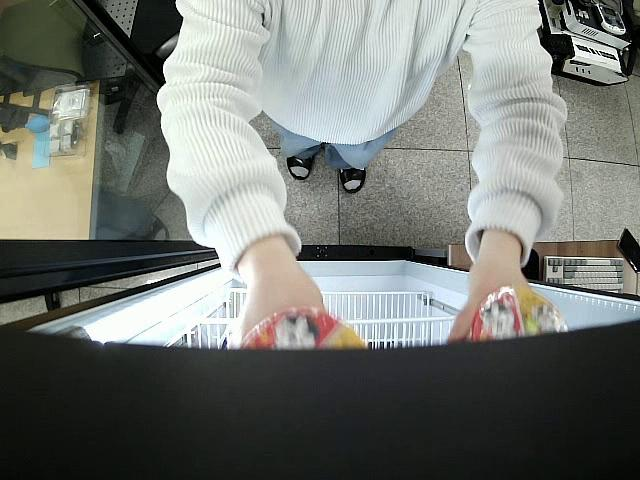00_hand: (224, 283, 325, 348), (444, 269, 531, 344)
08_buldak_S: (239, 308, 366, 359), (462, 286, 569, 346)
